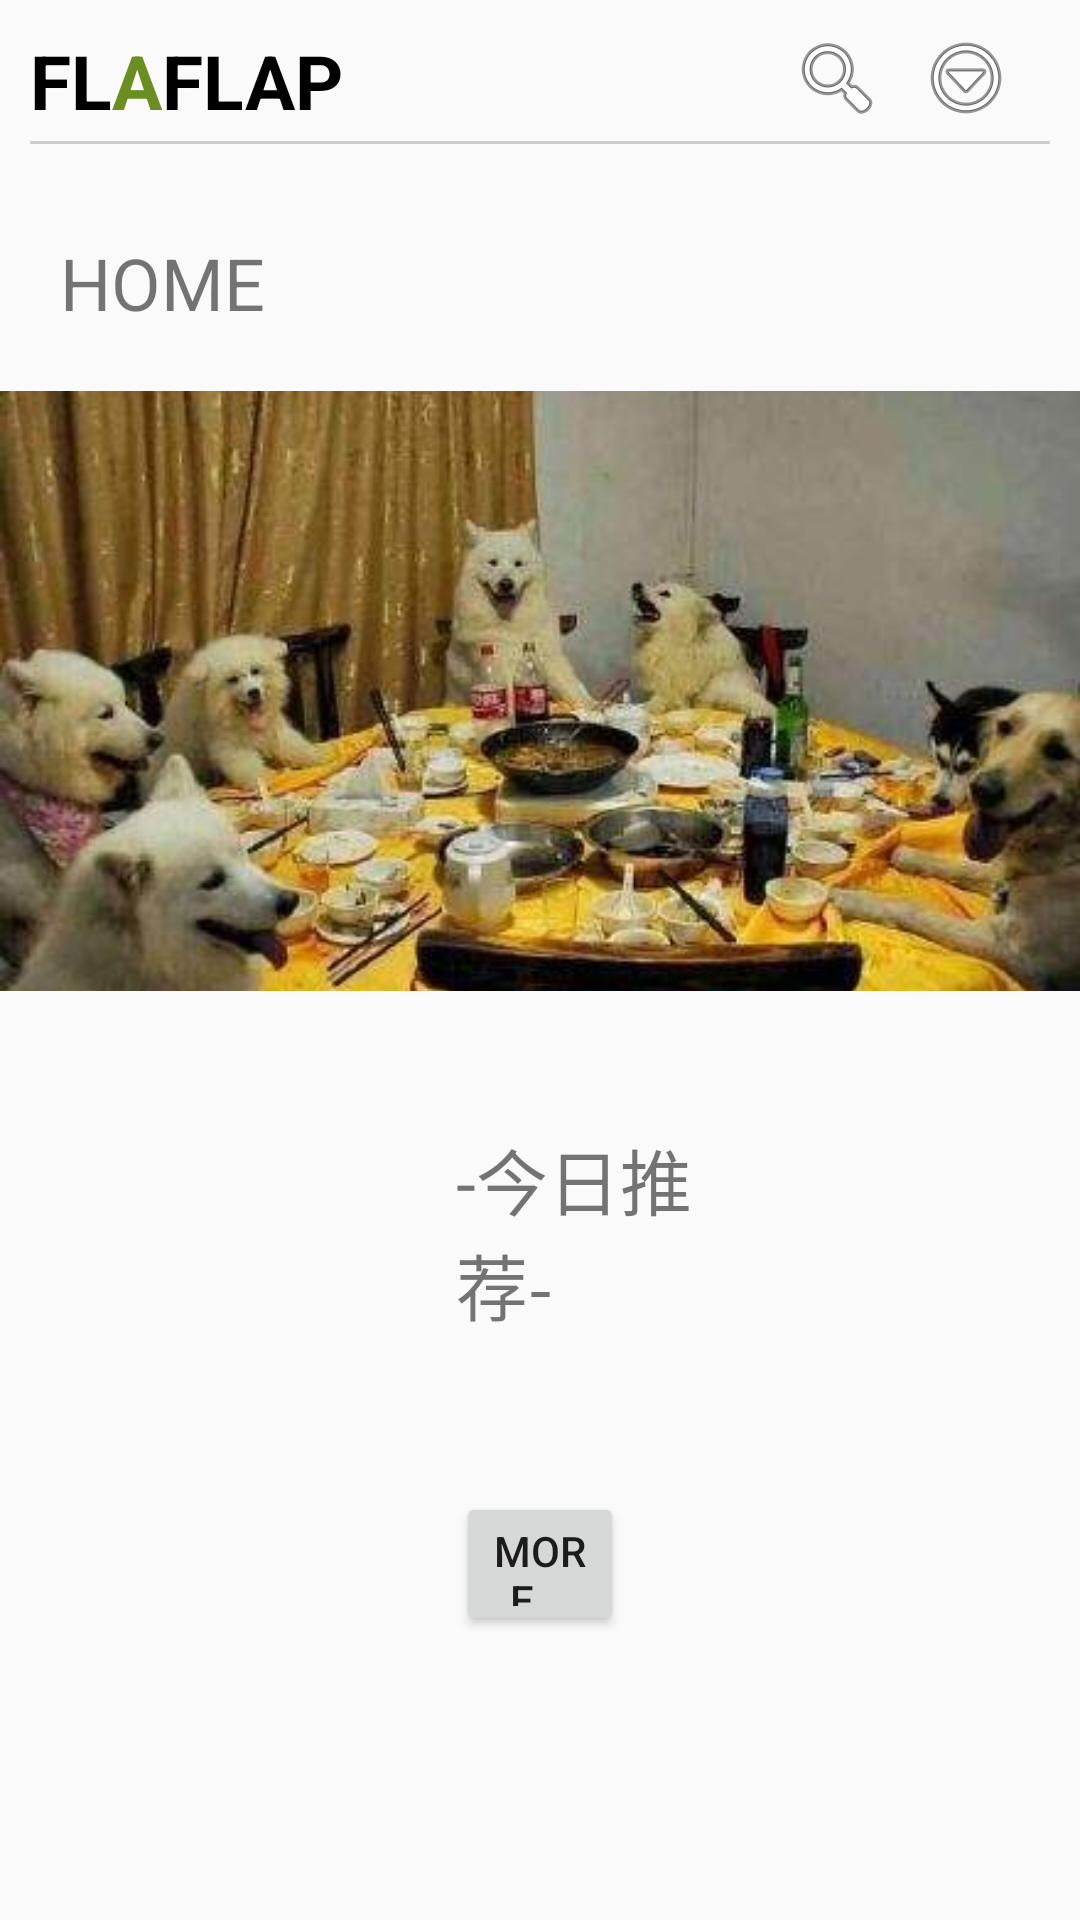

Where icons sit on this 1080×1920 app screen, as (x1, y1, x2, y2):
Menu: (930, 42, 1002, 114)
Search: (801, 43, 873, 114)
